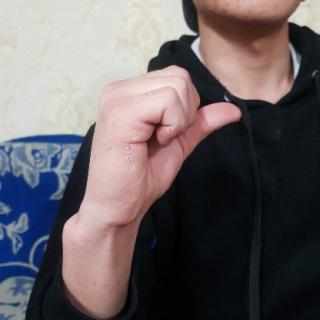WAW: (78, 60, 243, 236)
